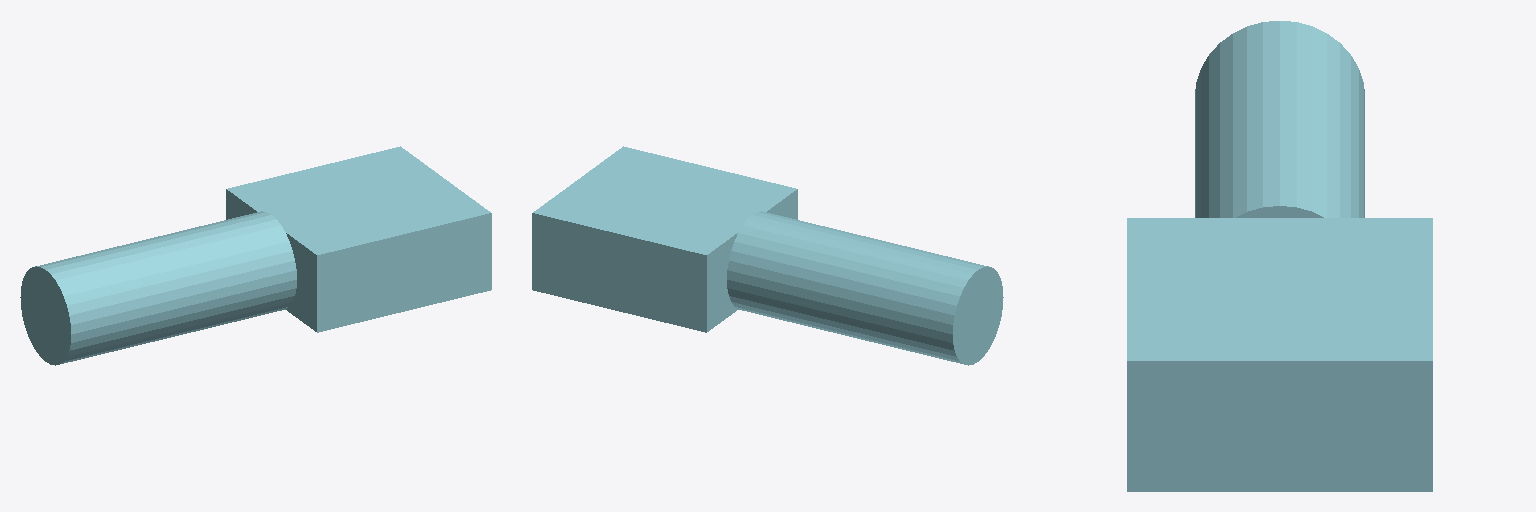
robot.urdf — cylinder_brush_v11008:
<?xml version="1.0"?>
<robot name="cylinder_brush_v11008">

  <link name="cylinder_brush_v11008">
    <!-- Handle -->
    <visual>
      <origin xyz="0 0 0" rpy="0 1.5707963267948966 0"/>
      <geometry>
        <cylinder length="0.11916491452323616" radius="0.023199026022585573"/>
      </geometry>
      <material name="material">
        <color rgba="0.639 0.847 0.882 1.0"/>
      </material>
    </visual>
    <collision>
      <origin xyz="0 0 0" rpy="0 1.5707963267948966 0"/>
      <geometry>
        <cylinder length="0.11916491452323616" radius="0.023199026022585573"/>
      </geometry>
    </collision>

    <!-- Head -->
    <visual>
      <origin xyz="0.10557179474667774 0 0" rpy="0 0 0"/>
      <geometry>
        <box size="0.09197867497011933 0.08309487809312988 0.03900122189248874"/>
      </geometry>
      <material name="material">
        <color rgba="0.639 0.847 0.882 1.0"/>
      </material>
    </visual>
    <collision>
      <origin xyz="0.10557179474667774 0 0" rpy="0 0 0"/>
      <geometry>
        <box size="0.09197867497011933 0.08309487809312988 0.03900122189248874"/>
      </geometry>
    </collision>

    <inertial>
      <density value="400.0"/>
    </inertial>
  </link>

</robot>

--- What the picture shows (computed from the rendered views, not written in the file) ---
Views: 3 orthographic renders of the robot side by side, from view 1: azimuth 30°, elevation 25°; view 2: azimuth 150°, elevation 25°; view 3: azimuth 270°, elevation 25°.
Robot: cylinder_brush_v11008 — 1 links, 0 joints (none); root link cylinder_brush_v11008; default pose: all joints at 0.
Links seen in each view (by area): view 1: cylinder_brush_v11008; view 2: cylinder_brush_v11008; view 3: cylinder_brush_v11008.
Boxes of the visible links, bbox=[...] form: cylinder_brush_v11008: bbox=[20, 146, 491, 365]; cylinder_brush_v11008: bbox=[532, 146, 1003, 365]; cylinder_brush_v11008: bbox=[1127, 21, 1432, 491].
Size in the robot's own frame: 0.2111 by 0.0831 by 0.0464 metres.
Geometry: primitives only (box / cylinder / sphere), no mesh files.
